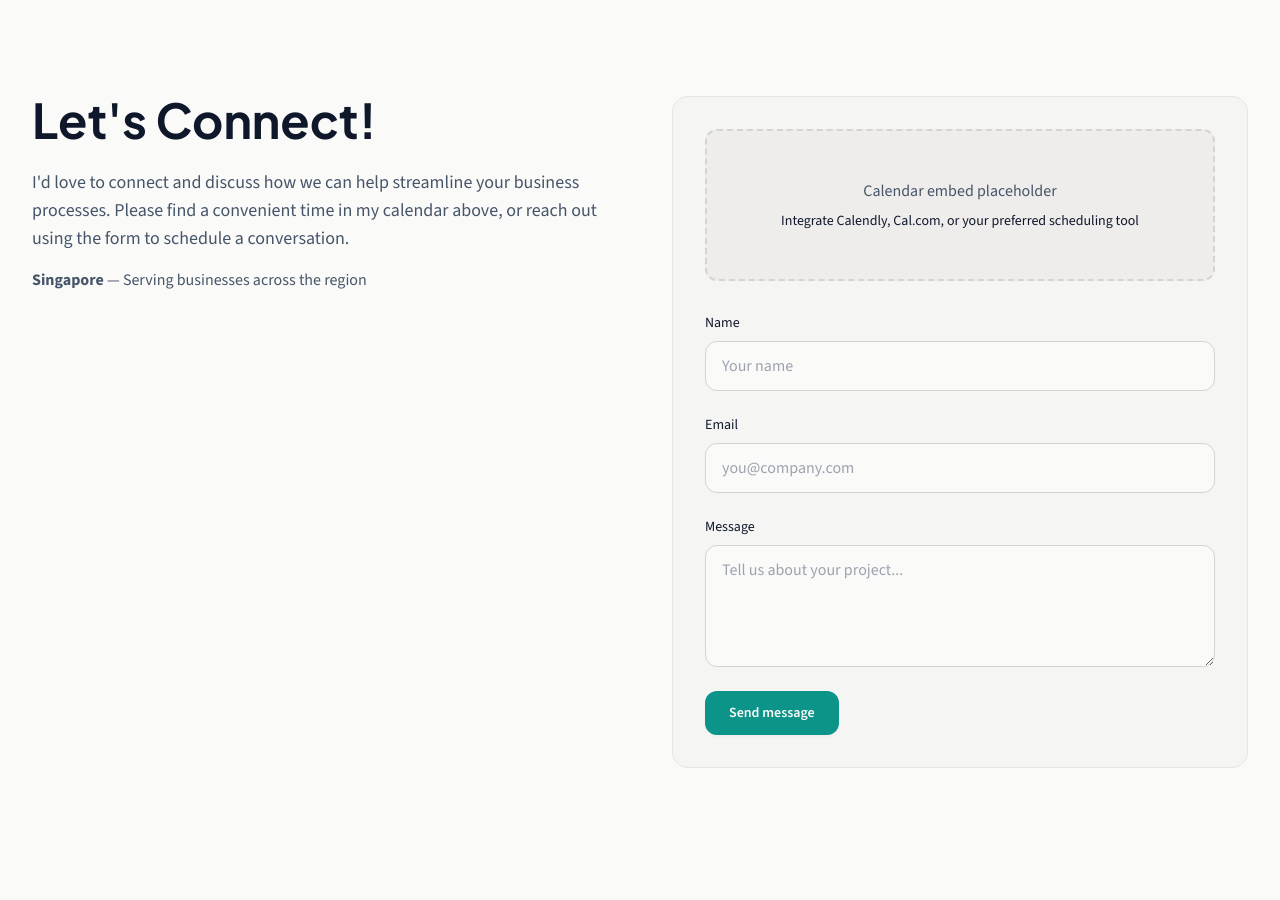
Test: ContactPage › shows success message after successful submit (happy path)
Type "Jane Doe" into the field labelled "Name".
click(960, 366); type("Jane Doe")  # box left=705, top=341, right=1215, bottom=391
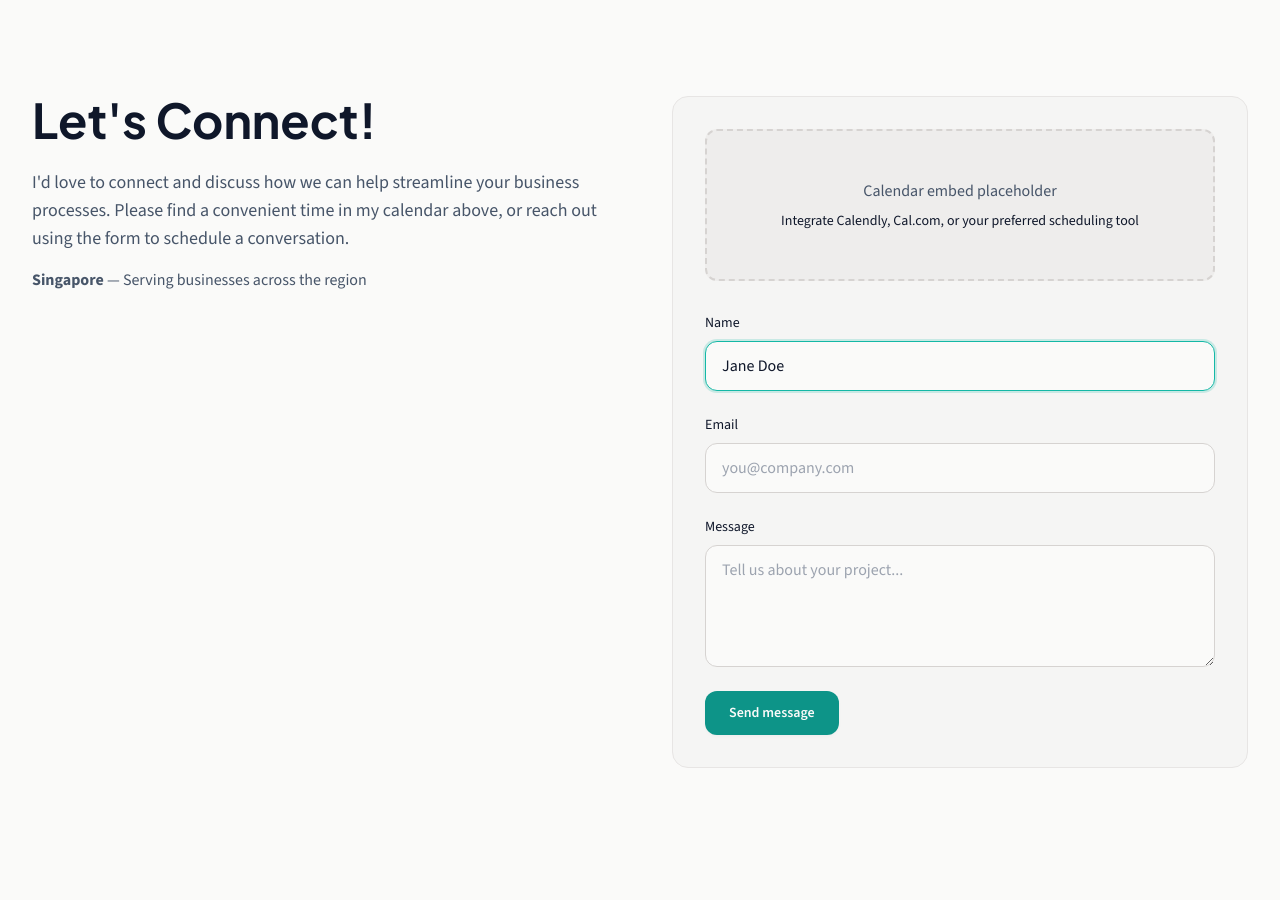
Type "jane@example.com" into the field labelled "Email".
click(960, 468); type("jane@example.com")  # box left=705, top=443, right=1215, bottom=493
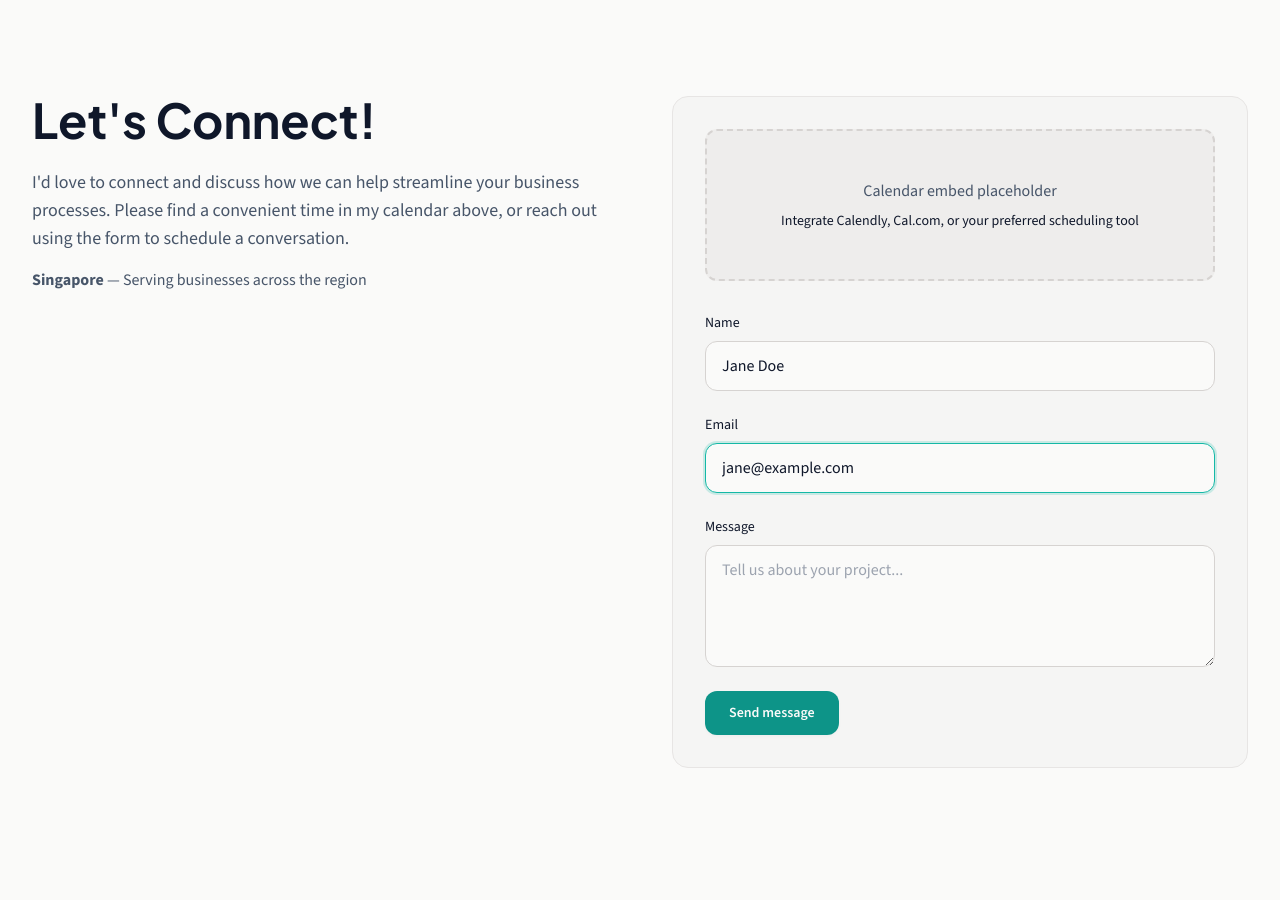
Type "Interested in OmniLink" into the text box labelled "Message".
click(960, 606); type("Interested in OmniLink")  # box left=705, top=545, right=1215, bottom=667
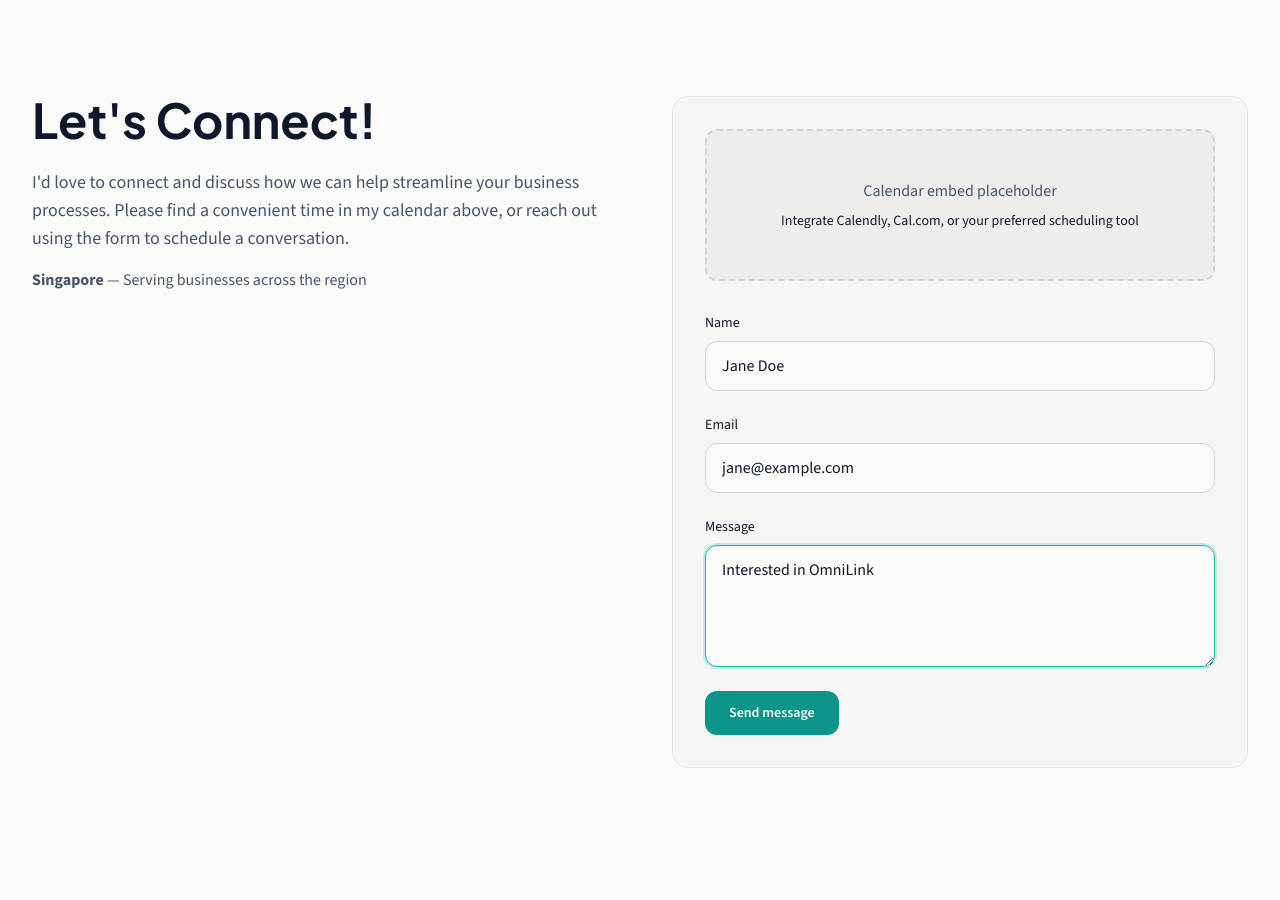
Click the button "Send message".
click(772, 713)  # box left=705, top=691, right=839, bottom=735
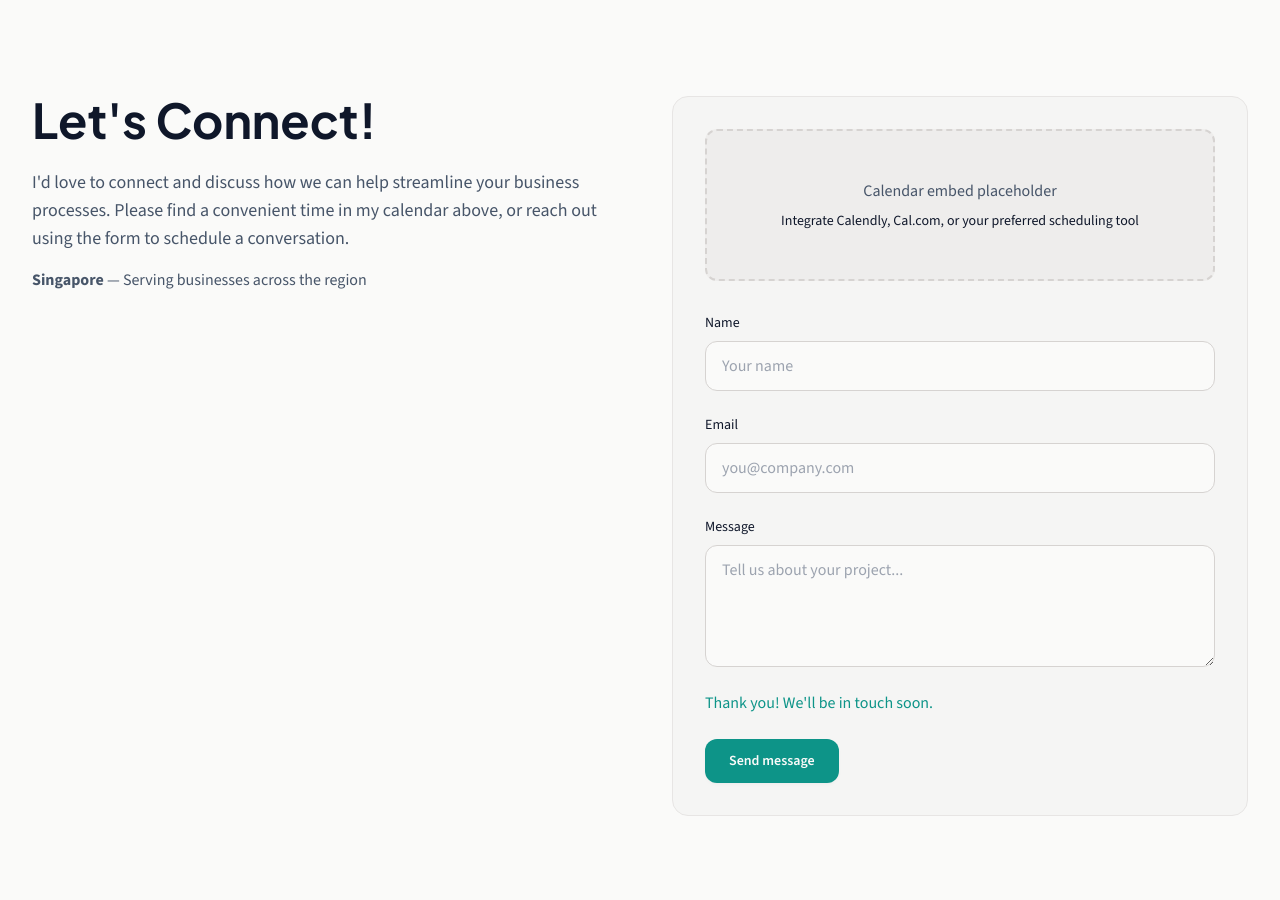
Check: the text "Thank you! We'll be in touch soon." is shown, box left=705, top=692, right=933, bottom=713
